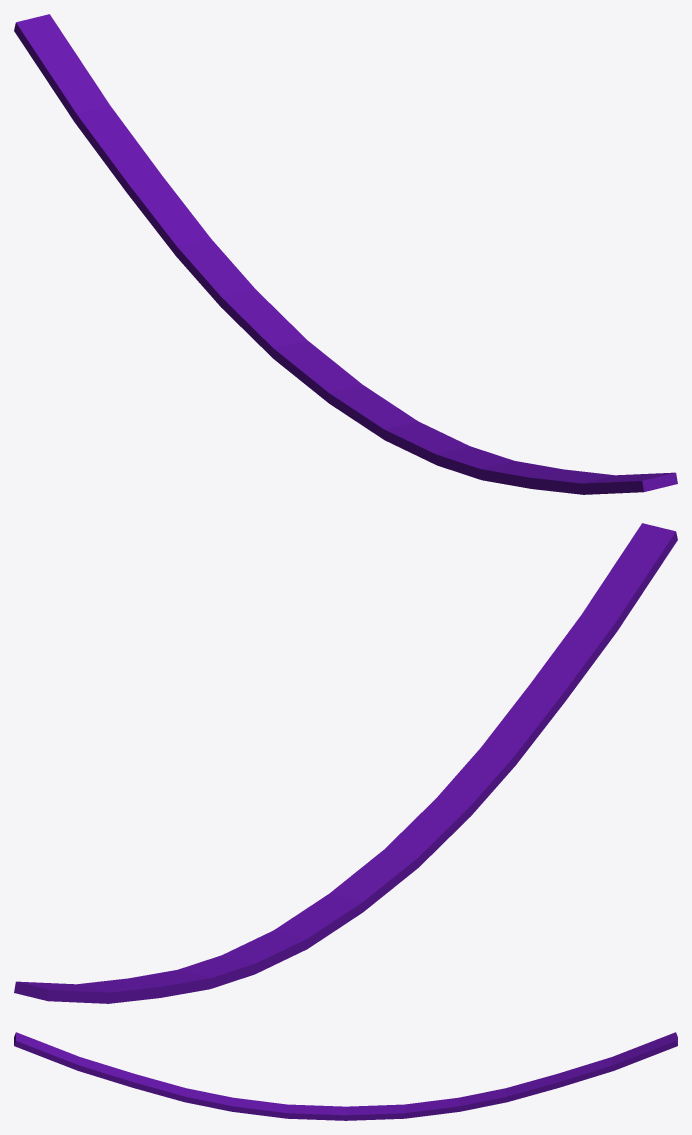
Rendered from Tape_5.001_chunks.fbx.
The picture shows the model from 3 angles, top to bottom: view 1: azimuth 30°, elevation 25°; view 2: azimuth 150°, elevation 25°; view 3: azimuth 270°, elevation 25°; orthographic projection. The views are drawn at different scales.
Visible parts, largest first — view 1: Tape_5.001_0, Tape_5.001_1, Tape_5.001_3; view 2: Tape_5.001_1, Tape_5.001_0, Tape_5.001_3; view 3: Tape_5.001_1, Tape_5.001_0, Tape_5.001_3.
Boxes of the visible parts, x1,y1,x2,y2 form: Tape_5.001_0: (14, 14, 325, 391); Tape_5.001_1: (314, 380, 677, 494); Tape_5.001_3: (308, 341, 368, 388); Tape_5.001_1: (335, 526, 677, 921); Tape_5.001_0: (14, 908, 350, 1003); Tape_5.001_3: (274, 889, 340, 929); Tape_5.001_1: (14, 1032, 358, 1120); Tape_5.001_0: (358, 1032, 677, 1117); Tape_5.001_3: (340, 1108, 409, 1120).
Size of the model in its own units: 24.08 by 103 by 776.
